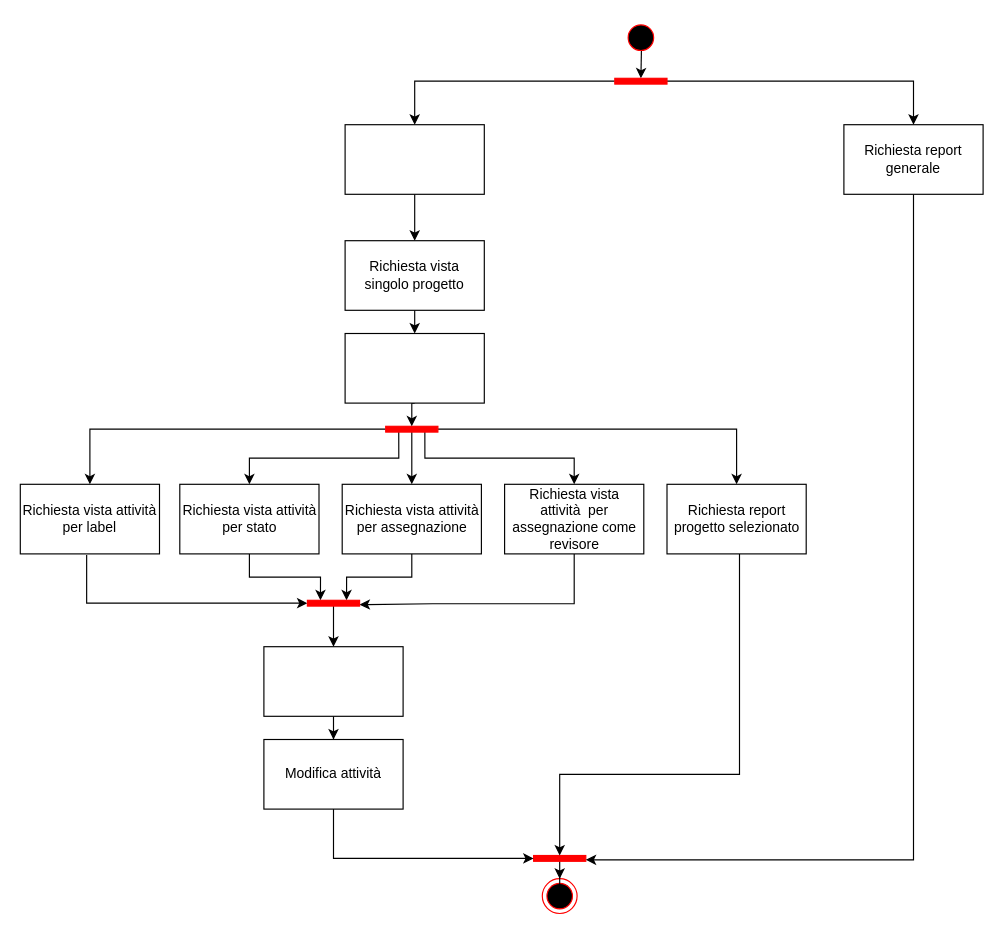
Some shapes in this 1003 by 934 pixel diagram are drawn without their labels. The centre of each missing label's shape, as x and y in pixels:
"Modifica progetto" belongs at pixel 414 367.
"Richiesta vista progetti" belongs at pixel 414 159.
"Richiesta vista singola attività" belongs at pixel 333 681.
